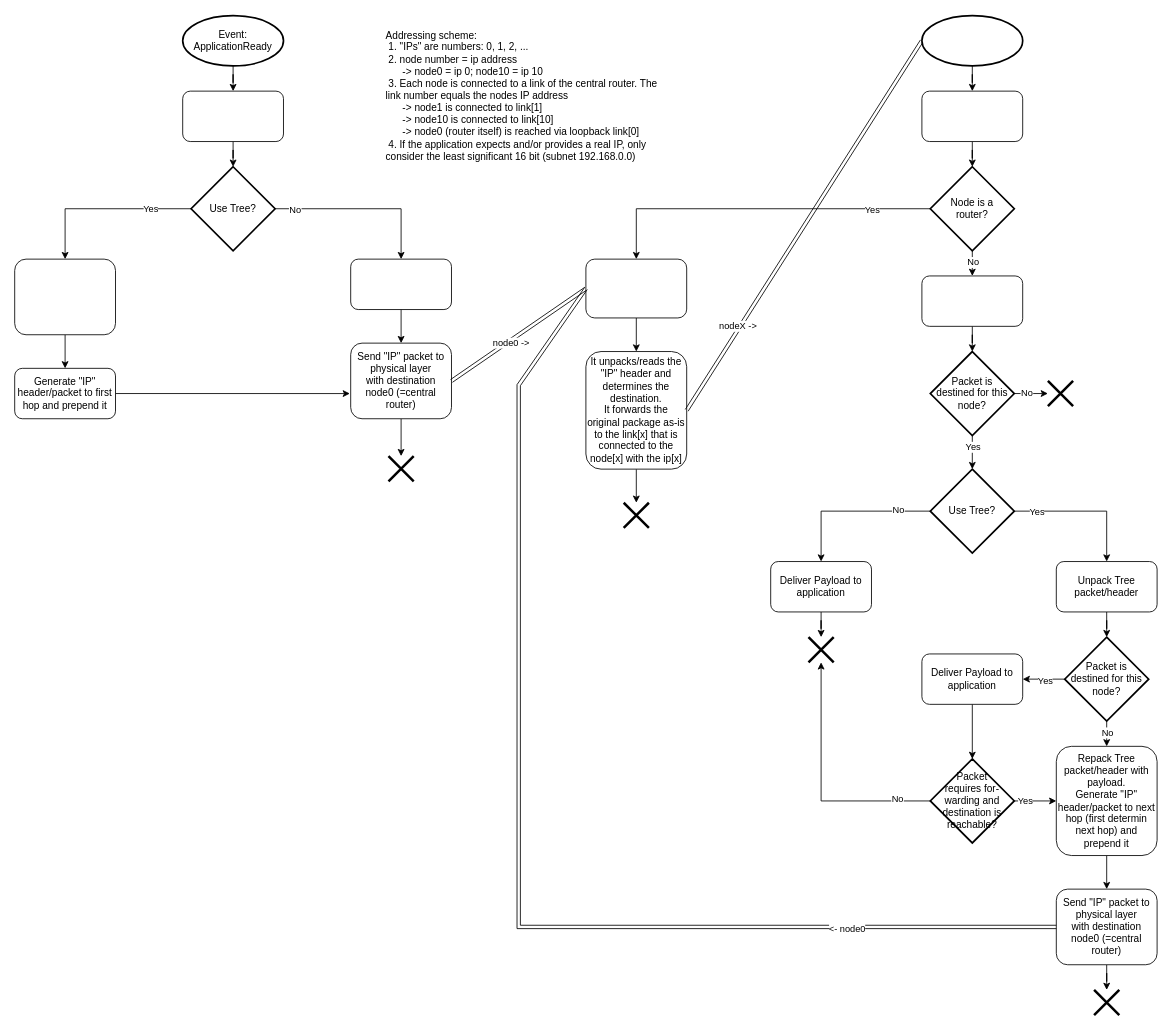
The diagram is 1172 pixels wide and 1031 high, and some of its shapes have lost their labels. The shapes that lost their labels are listed below. From the top down, each one's box as (x1, y1, x2, y2) in pixels, then its label:
(921, 14, 1023, 66): Event: PhysicalReady
(182, 90, 284, 142): Get Payload, Length and Destination IP from Application
(921, 90, 1023, 142): Get Packet, Length and Destination from Physical
(14, 258, 116, 335): Generate Tree header and append payload. Destination address = provided IP
(350, 258, 452, 310): Generate "IP" header/packet and append payload
(585, 258, 687, 318): node0 (=central router) receives the packet from its physical layer
(921, 275, 1023, 326): Unpack "IP" packet/header
